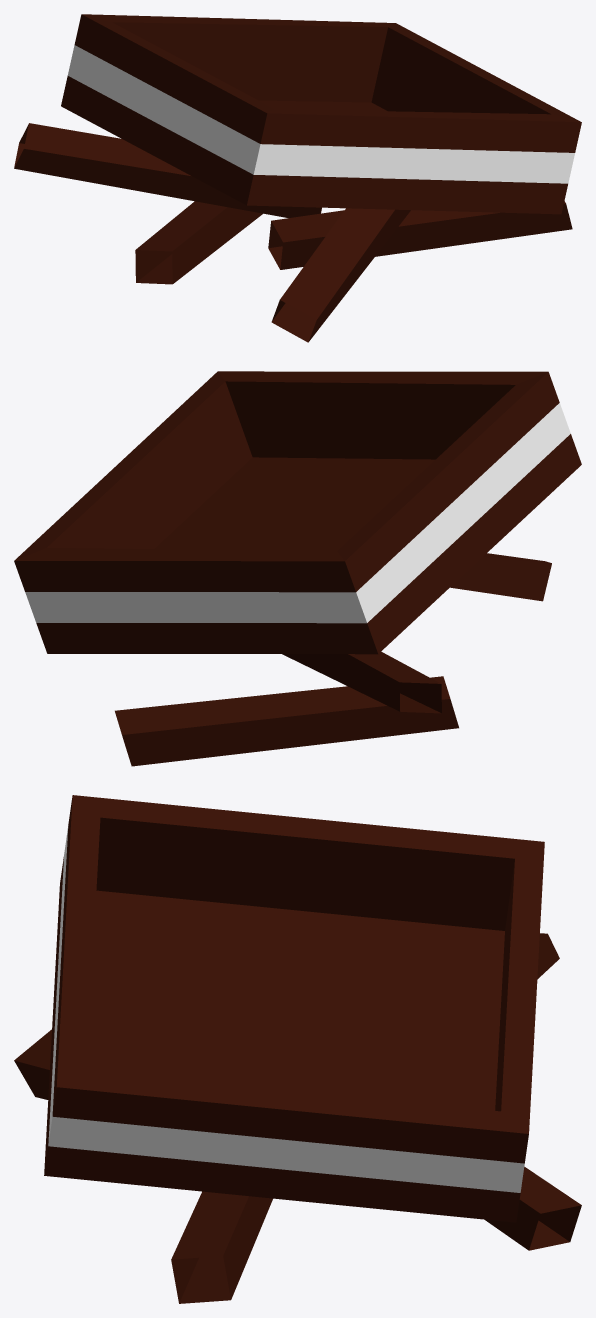
Rendered from tower_destroy.obj.
3 renders of one model, top to bottom at view 1: azimuth 30°, elevation 25°; view 2: azimuth 150°, elevation 25°; view 3: azimuth 270°, elevation 25°, orthographic. The views are drawn at different scales.
Visible parts, largest first — view 1: tower_destroy; view 2: tower_destroy; view 3: tower_destroy.
Part boxes in pixels (left/top/right/bottom): tower_destroy: left=14, top=14, right=581, bottom=342; tower_destroy: left=14, top=371, right=581, bottom=766; tower_destroy: left=14, top=795, right=581, bottom=1303.
Bounding box in the file's own units: 1.57 × 0.9065 × 1.4.
